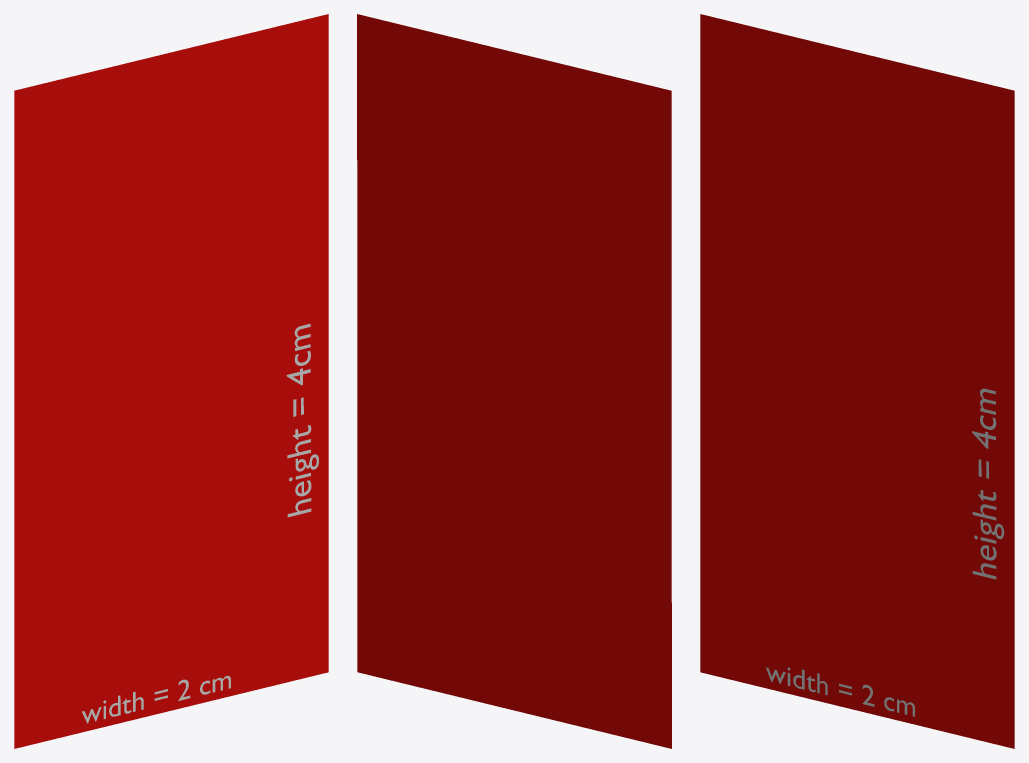
File: rectw2_h4.glb
3 views of the same model, side by side, from view 1: azimuth 30°, elevation 25°; view 2: azimuth 150°, elevation 25°; view 3: azimuth 330°, elevation 25° (orthographic).
Visible parts, largest first — view 1: Plane, height, width; view 2: Plane; view 3: Plane, height, width.
Part boxes in pixels (x1,y1,x2,y2): Plane: [14, 14, 328, 748]; height: [286, 323, 318, 517]; width: [82, 675, 230, 723]; Plane: [357, 14, 671, 748]; Plane: [700, 14, 1014, 748]; height: [972, 388, 1004, 579]; width: [766, 667, 914, 716].
Bounding box in the file's own units: 0.2 × 0.4 × 0.00113.
